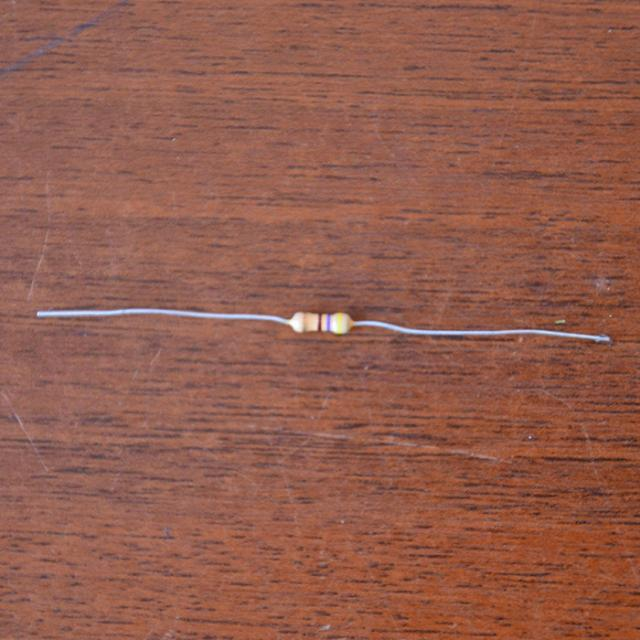brown: (318, 316, 321, 329)
gold: (302, 312, 307, 331)
resistor: (286, 304, 356, 340)
violet: (326, 315, 331, 331)
yellow: (336, 313, 341, 333)
